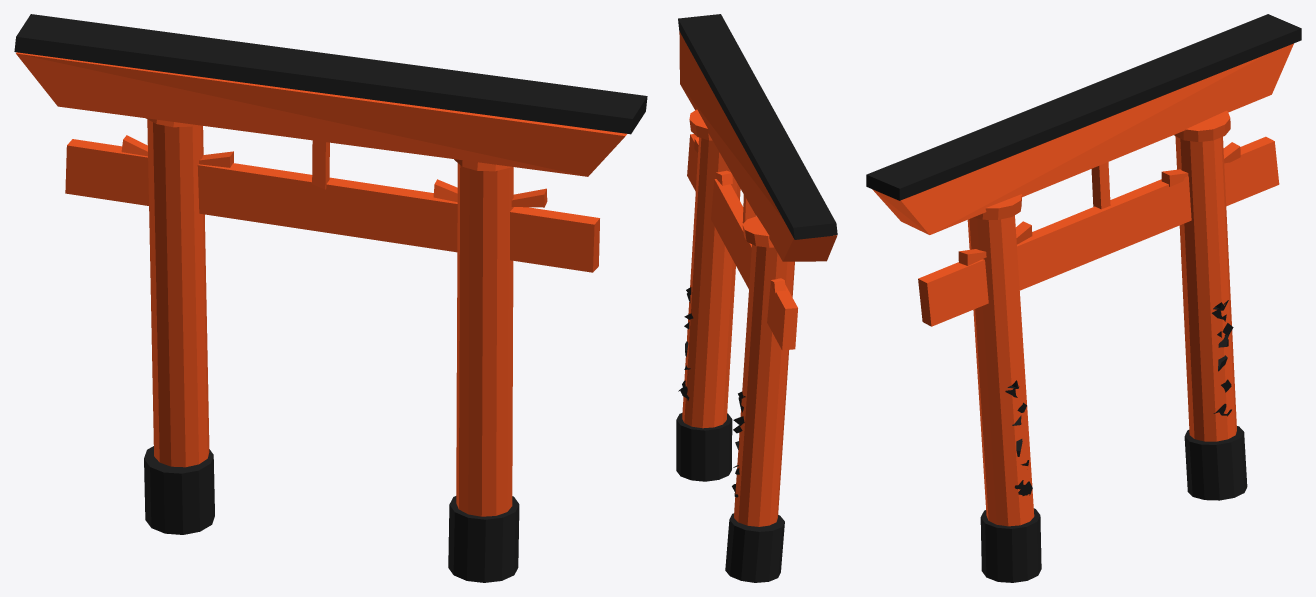
File: Torii.gltf
The picture shows the model from 3 angles, left to right: view 1: azimuth 30°, elevation 25°; view 2: azimuth 150°, elevation 25°; view 3: azimuth 270°, elevation 25°; orthographic projection. The views are drawn at different scales.
Visible parts, largest first — view 1: Node; view 2: Node; view 3: Node.
Part boxes in pixels (x1,y1,x2,y2): Node: [14, 14, 647, 582]; Node: [676, 14, 837, 582]; Node: [866, 14, 1301, 582].
Size of the model in its own units: 0.3428 by 0.3918 by 0.3637.
